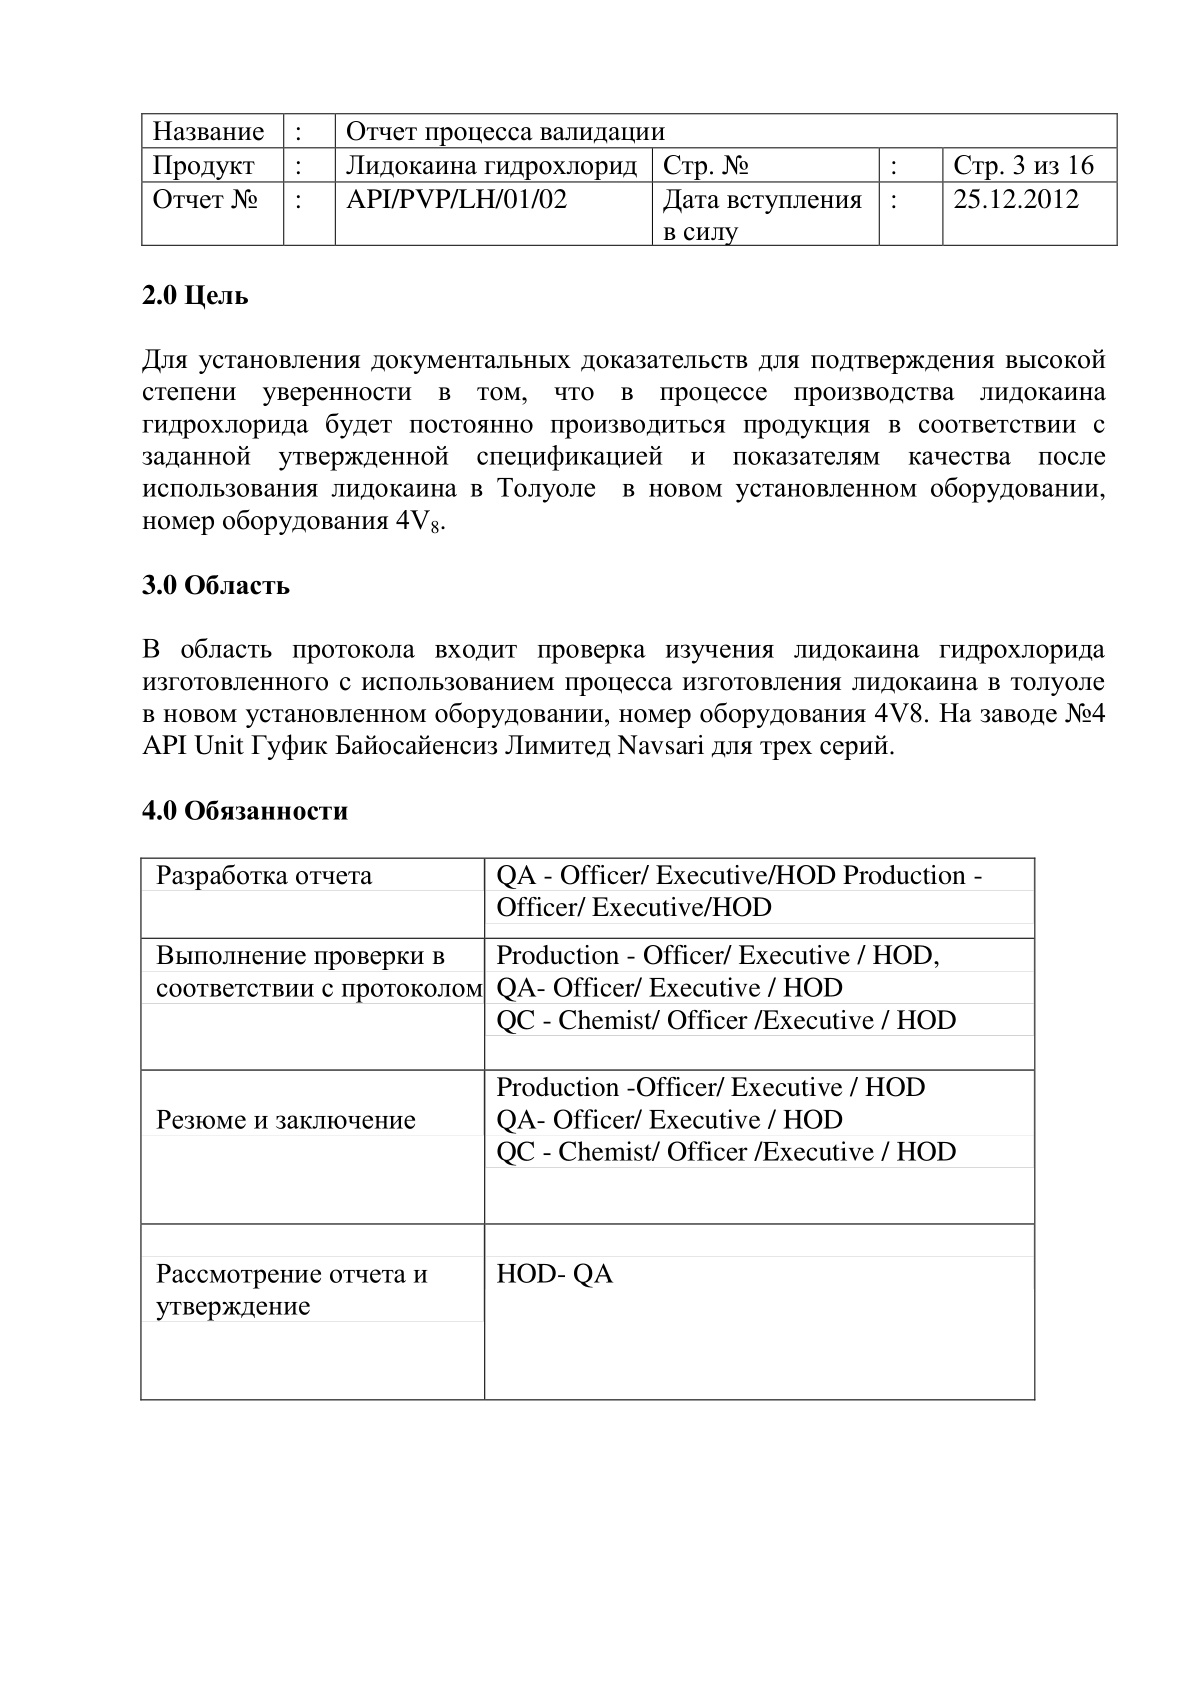full_lined: (139, 856, 1038, 1402)
merged_cells: (140, 111, 1118, 246)
